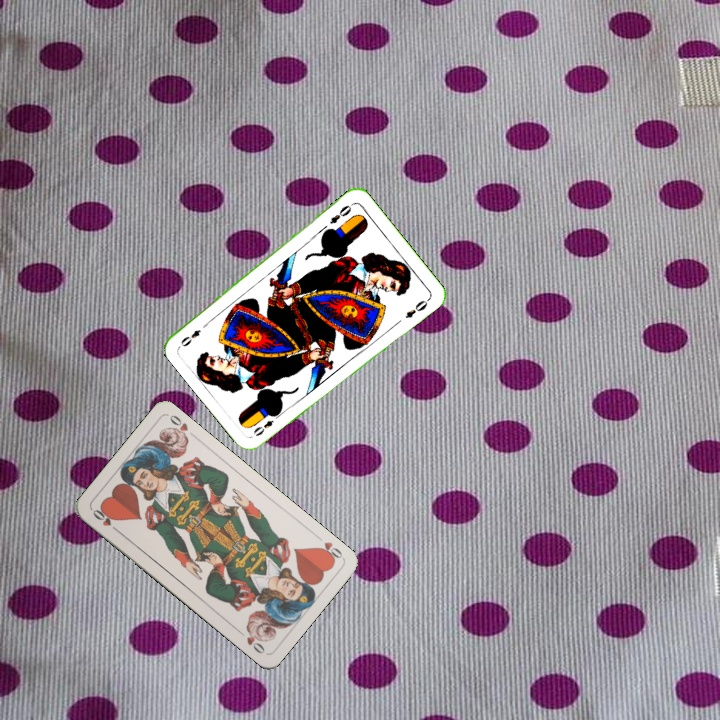EO: (249, 409, 284, 439), (326, 199, 356, 227)
HO: (311, 531, 345, 564), (88, 505, 123, 535)
